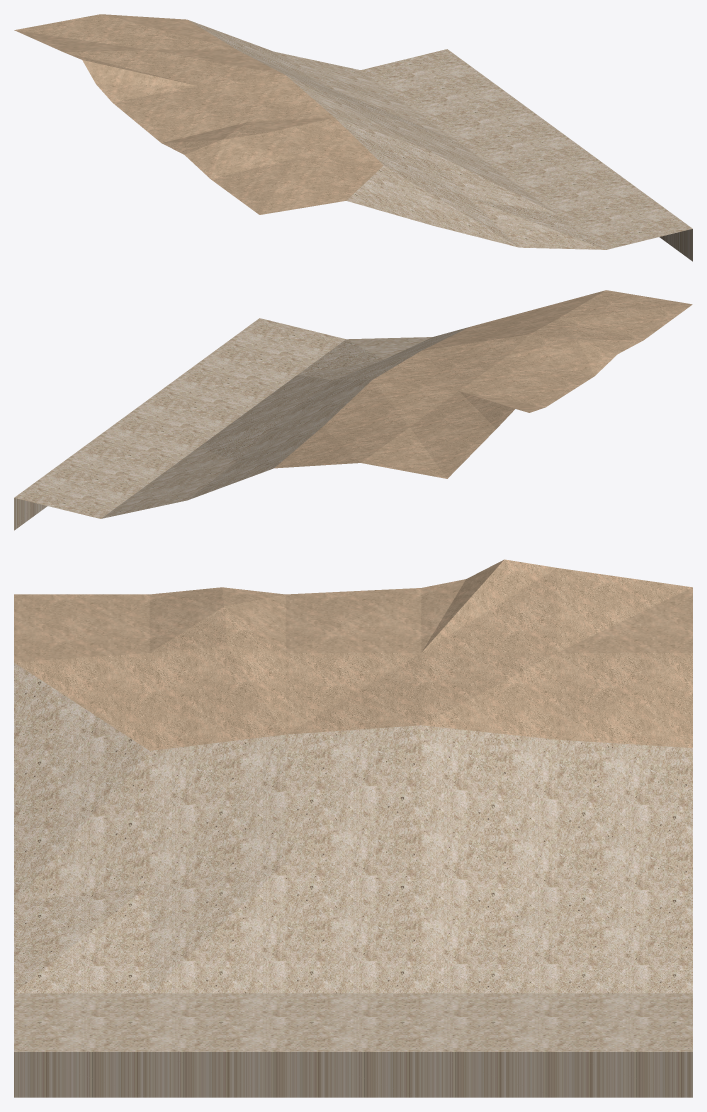
Rendered from sbcs_landbit_54.obj.
3 views of the same model, one above another, from view 1: azimuth 30°, elevation 25°; view 2: azimuth 150°, elevation 25°; view 3: azimuth 270°, elevation 25° (orthographic). The views are drawn at different scales.
Visible parts, largest first — view 1: sbcs_landbit_54; view 2: sbcs_landbit_54; view 3: sbcs_landbit_54.
Part boxes in pixels (bbox=[...]): sbcs_landbit_54: bbox=[14, 14, 692, 261]; sbcs_landbit_54: bbox=[14, 290, 692, 530]; sbcs_landbit_54: bbox=[14, 559, 692, 1097].
Bounding box in the file's own units: 229 × 89.67 × 225.
